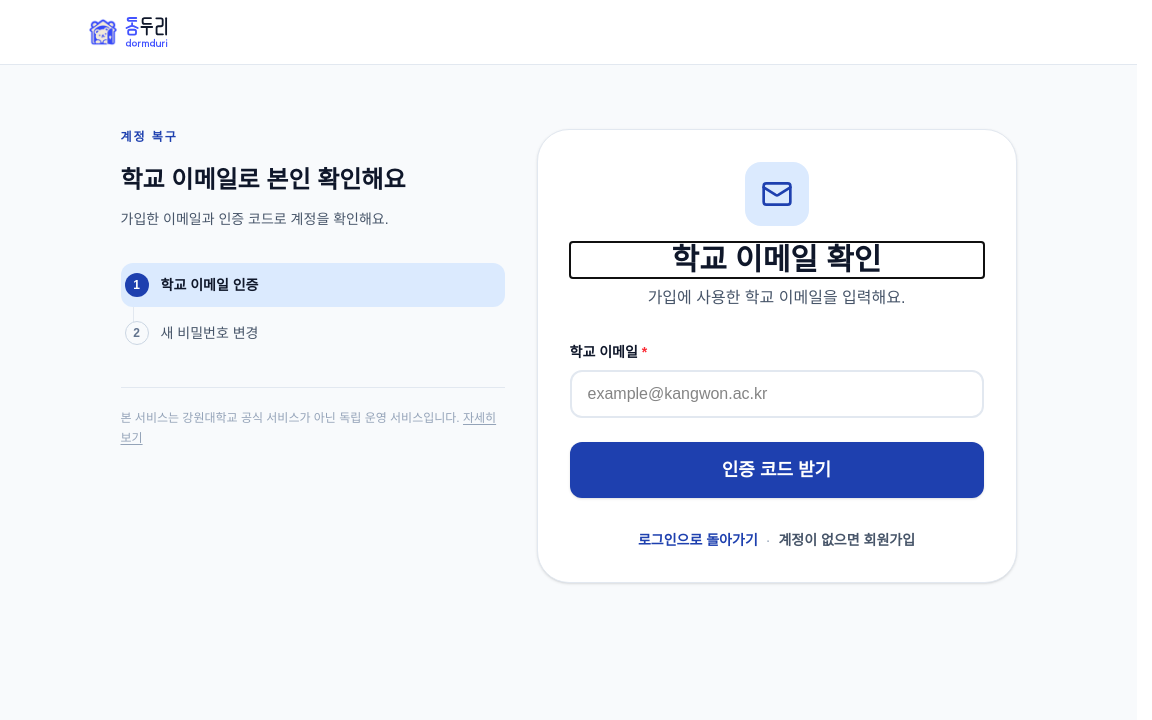
PasswordResetPageClient › verification에서 뒤로가면 email 단계로 돌아가고 code 입력을 제거한다
The image size is (1152, 720).
Step 1. Type "test@kangwon.ac.kr" into the field labelled "학교 이메일*" → (776, 394), box [570,370,984,418]
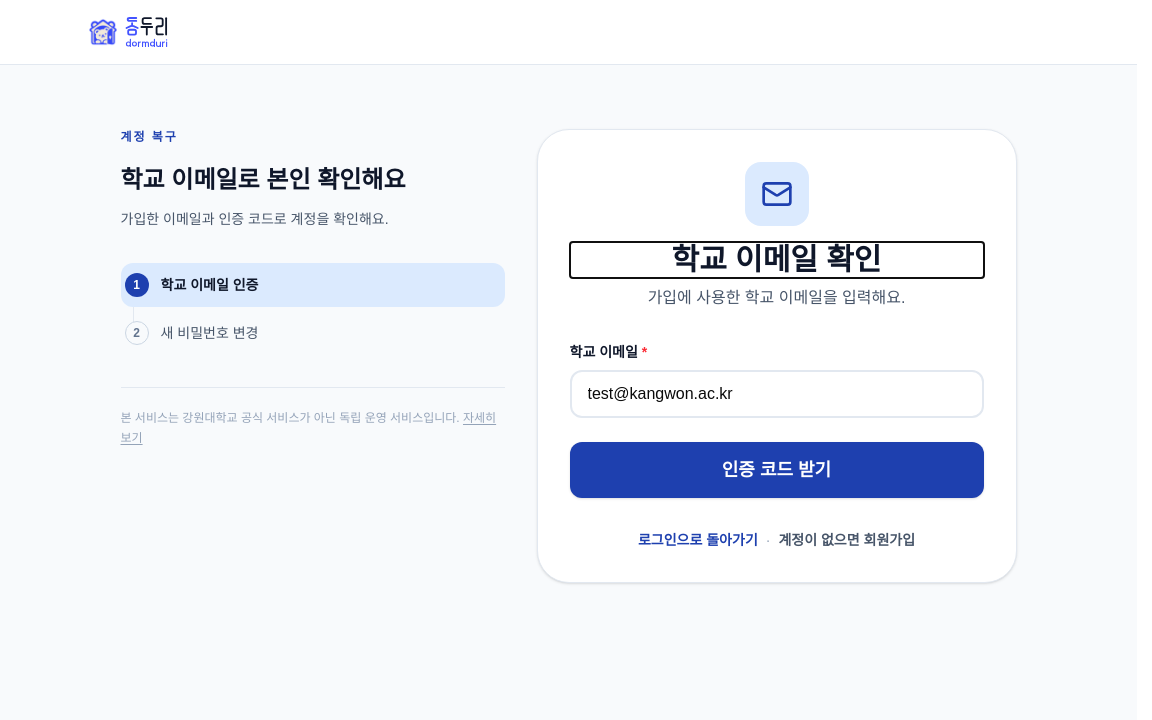
Step 2. Click the button "인증 코드 받기" → (776, 470), box [570,442,984,498]
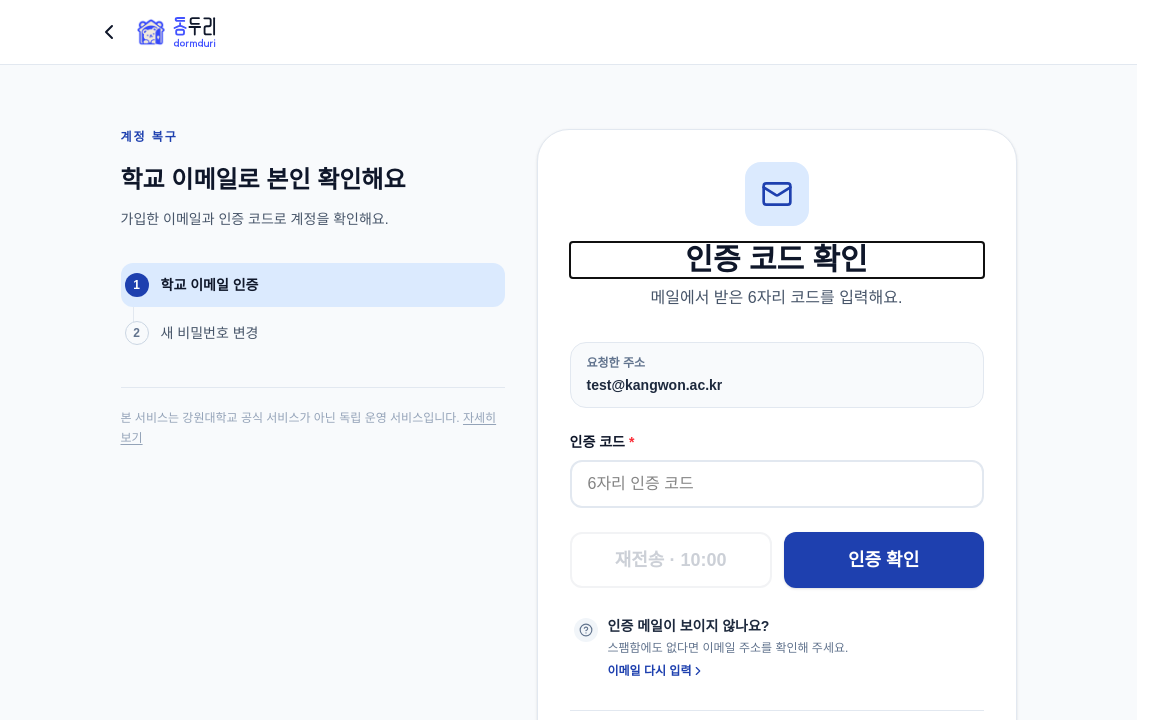
Step 3. Type "123456" into the field labelled "인증 코드*" → (776, 484), box [570,460,984,508]
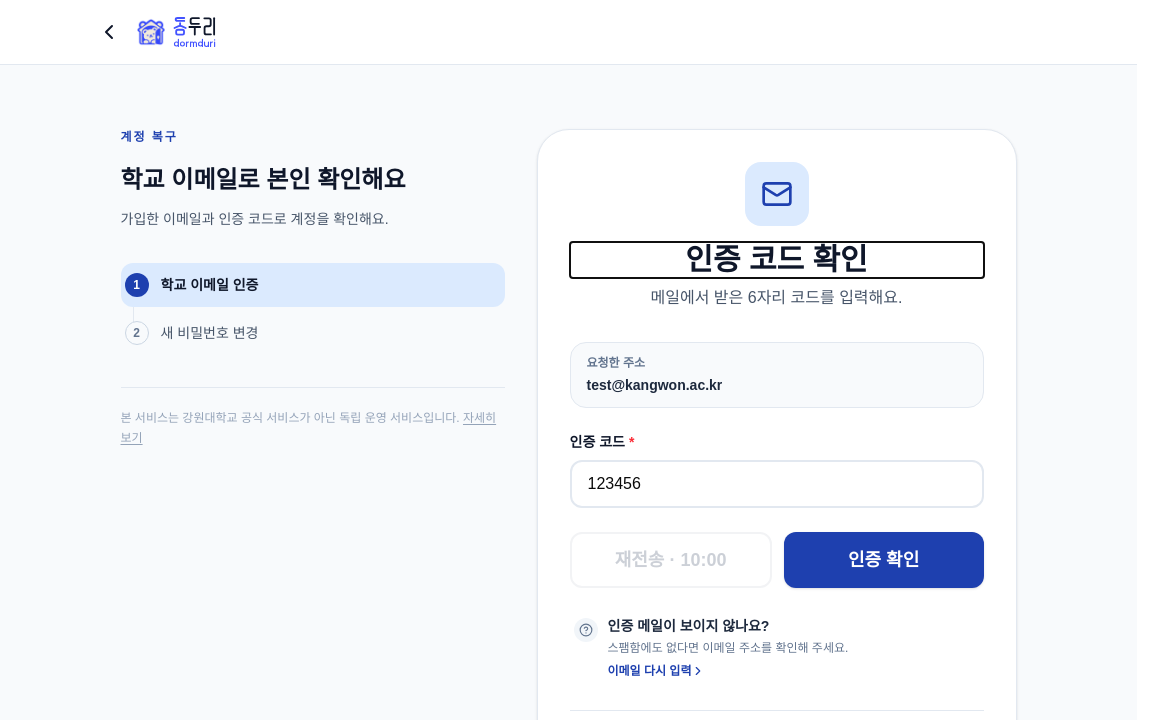
Step 4. Click the button named "뒤로가기" → (108, 32), box [88,12,128,52]
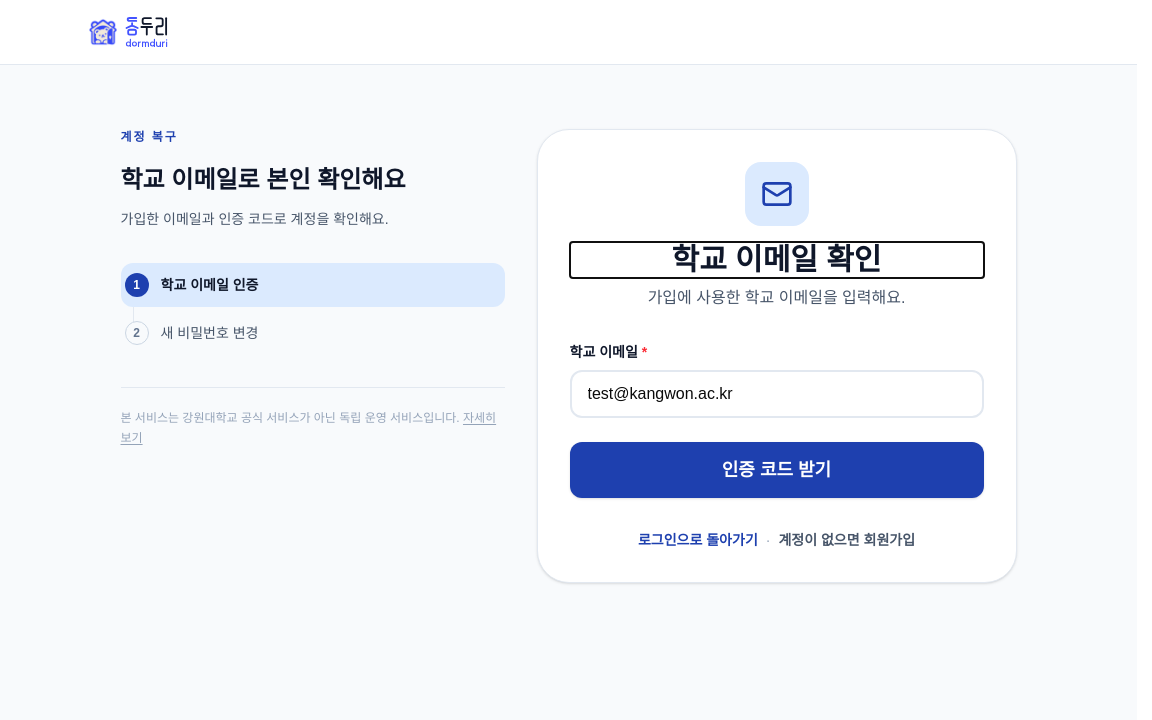
Result: the heading "학교 이메일 확인" is shown at [672,243,882,276]
